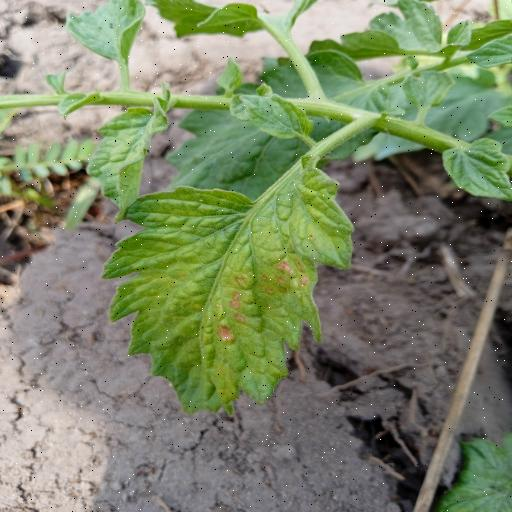Tomato_Mosaic: (96, 146, 378, 424)
